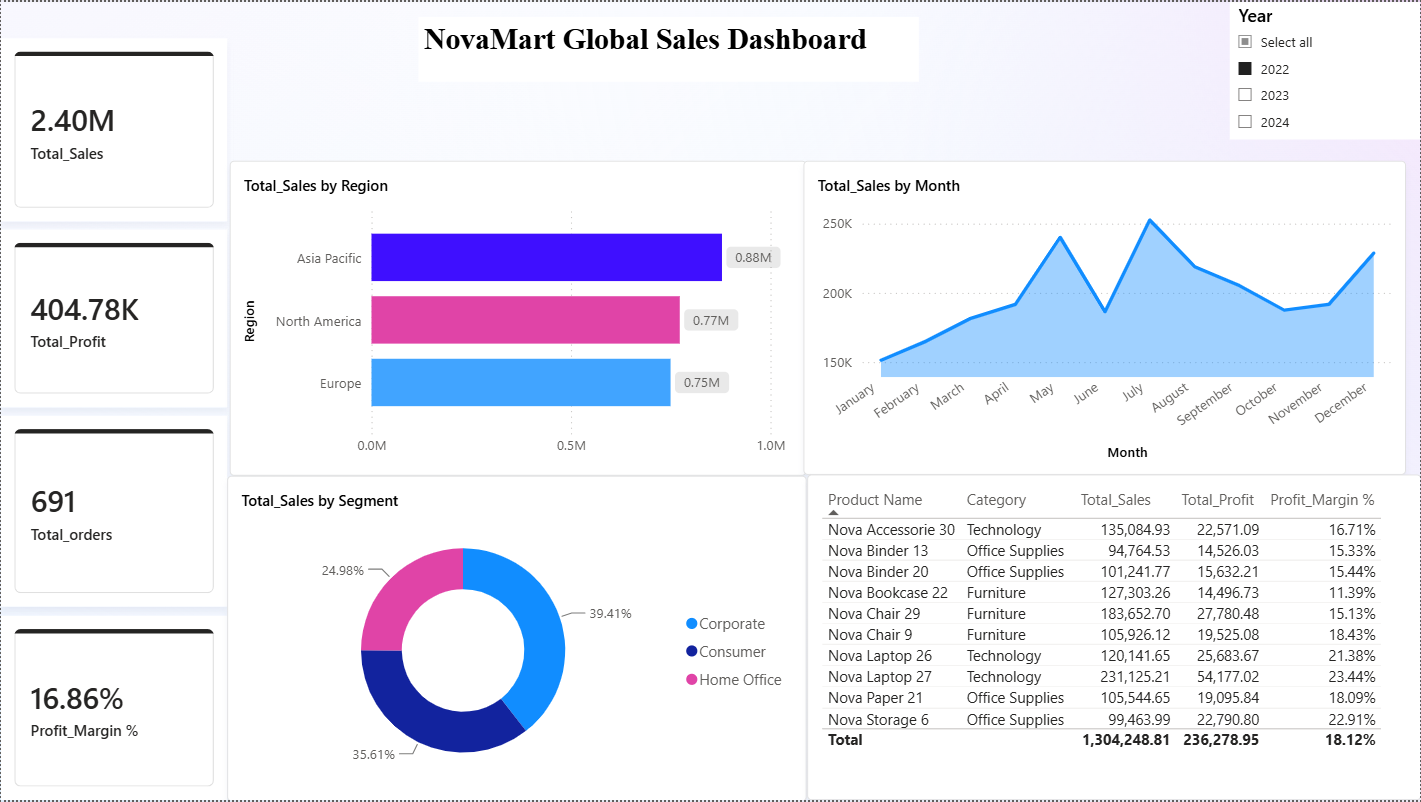

Layout of this report page (visuals, bound fields, positions):
{"tool":"powerbi","page":{"name":"Executive_Summary","canvas":[1280,720],"ordinal":0},"visuals":[{"type":"cardVisual","fields":{"Data":["Fact_orders.Total_Sales"]},"box":[0,32.3,204,165.4],"z":0},{"type":"cardVisual","fields":{"Data":["Fact_orders.Total_Profit"]},"box":[0,205.2,204,160.5],"z":1000},{"type":"cardVisual","fields":{"Data":["Fact_orders.Total_orders"]},"box":[0,373,204,172.9],"z":2000},{"type":"cardVisual","fields":{"Data":["Fact_orders.Profit_Margin %"]},"box":[0,553.3,204,166.7],"z":3000},{"type":"clusteredBarChart","fields":{"Y":["Fact_orders.Total_Sales"],"Category":["Fact_orders.Region"]},"box":[206.5,143.1,520,283.6],"z":4000},{"type":"lineChart","fields":{"Y":["Fact_orders.Total_Sales"],"Category":["Fact_orders.Order Date.Variation.Date Hierarchy.Month"]},"box":[723.9,143.6,543.6,283.4],"z":5000},{"type":"donutChart","fields":{"Category":["Dim_Customers.Segment"],"Y":["Fact_orders.Total_Sales"]},"box":[203.7,427,522.7,293.3],"z":6000},{"type":"tableEx","fields":{"Values":["Dim_Products.Product Name","Dim_Products.Category","Fact_orders.Total_Sales","Fact_orders.Total_Profit","Fact_orders.Profit_Margin %"]},"box":[726.8,426.3,553.5,293.5],"z":7000},{"type":"slicer","fields":{"Values":["Fact_orders.Order Date.Variation.Date Hierarchy.Year"]},"box":[1108.4,0,171.9,124.4],"z":8000},{"type":"textbox","box":[376.9,13.7,451.6,58.5],"z":9000}]}

Visuals, with their boxes in screenshot pixels (x1, y1, x2, y2), scaled from the page's 1280x720 canvas onto the 1421x802 screenshot:
cardVisual - Fact_orders.Total_Sales: [left=0, top=36, right=226, bottom=220]
cardVisual - Fact_orders.Total_Profit: [left=0, top=229, right=226, bottom=407]
cardVisual - Fact_orders.Total_orders: [left=0, top=415, right=226, bottom=608]
cardVisual - Fact_orders.Profit_Margin %: [left=0, top=616, right=226, bottom=801]
clusteredBarChart - Fact_orders.Total_Sales x Fact_orders.Region: [left=229, top=159, right=807, bottom=475]
lineChart - Fact_orders.Total_Sales x Fact_orders.Order Date.Variation.Date Hierarchy.Month: [left=804, top=160, right=1407, bottom=476]
donutChart - Dim_Customers.Segment x Fact_orders.Total_Sales: [left=226, top=476, right=806, bottom=801]
tableEx - Dim_Products.Product Name x Dim_Products.Category: [left=807, top=475, right=1420, bottom=801]
slicer - Fact_orders.Order Date.Variation.Date Hierarchy.Year: [left=1230, top=0, right=1420, bottom=139]
textbox: [left=418, top=15, right=920, bottom=80]
